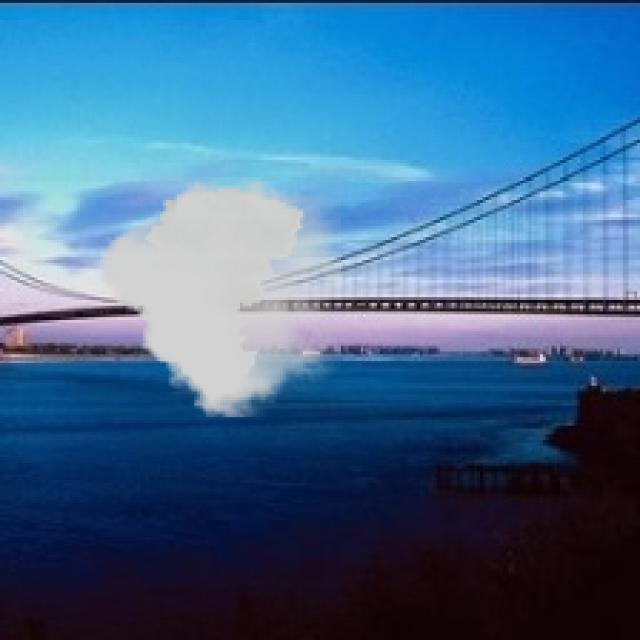smoke: (100, 177, 340, 417)
